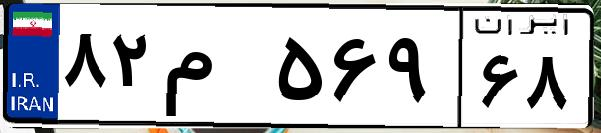2: (110, 28, 158, 98)
5: (270, 28, 330, 110)
6: (330, 28, 385, 110), (475, 38, 525, 113)
8: (57, 26, 110, 100), (525, 38, 570, 115)
9: (385, 28, 445, 110)
م: (158, 20, 270, 120)
